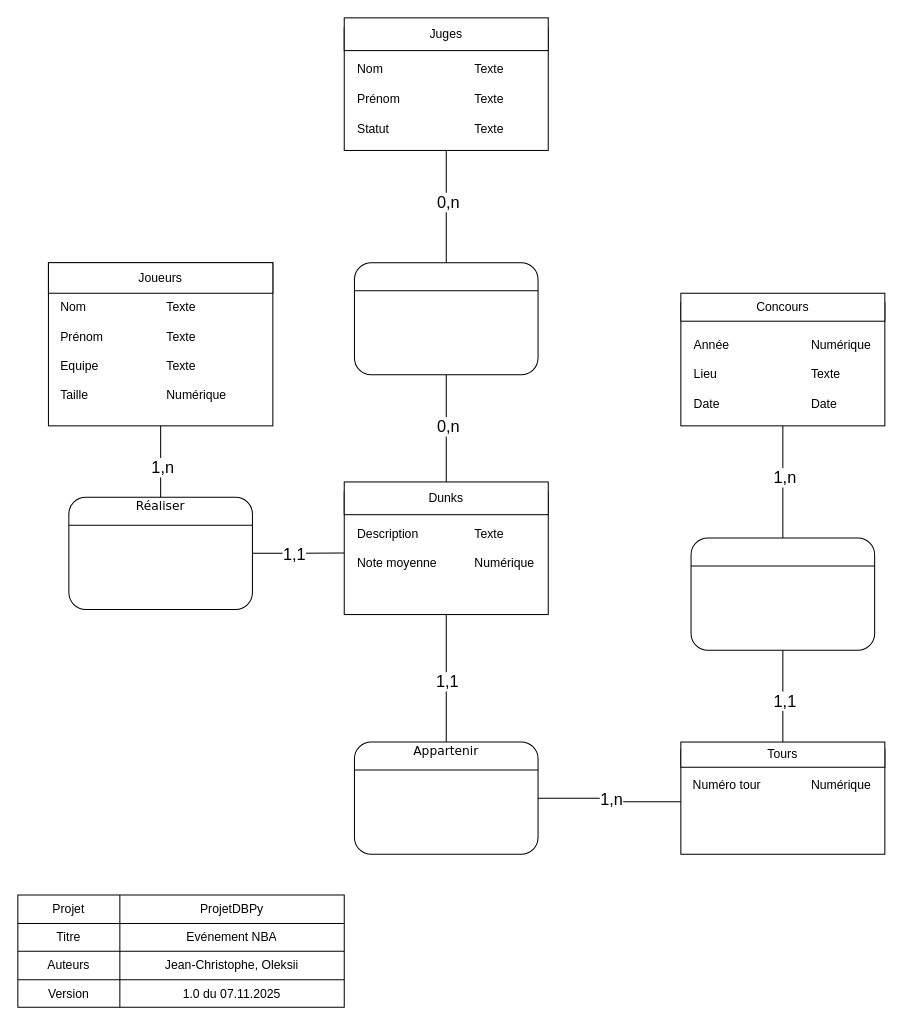
Image size: 903x1025. Some labels were removed from this diagram. The centre of each missing label's shape, as x and y in pixels:
Contenir: point (782, 593)
Noter: point (445, 318)
